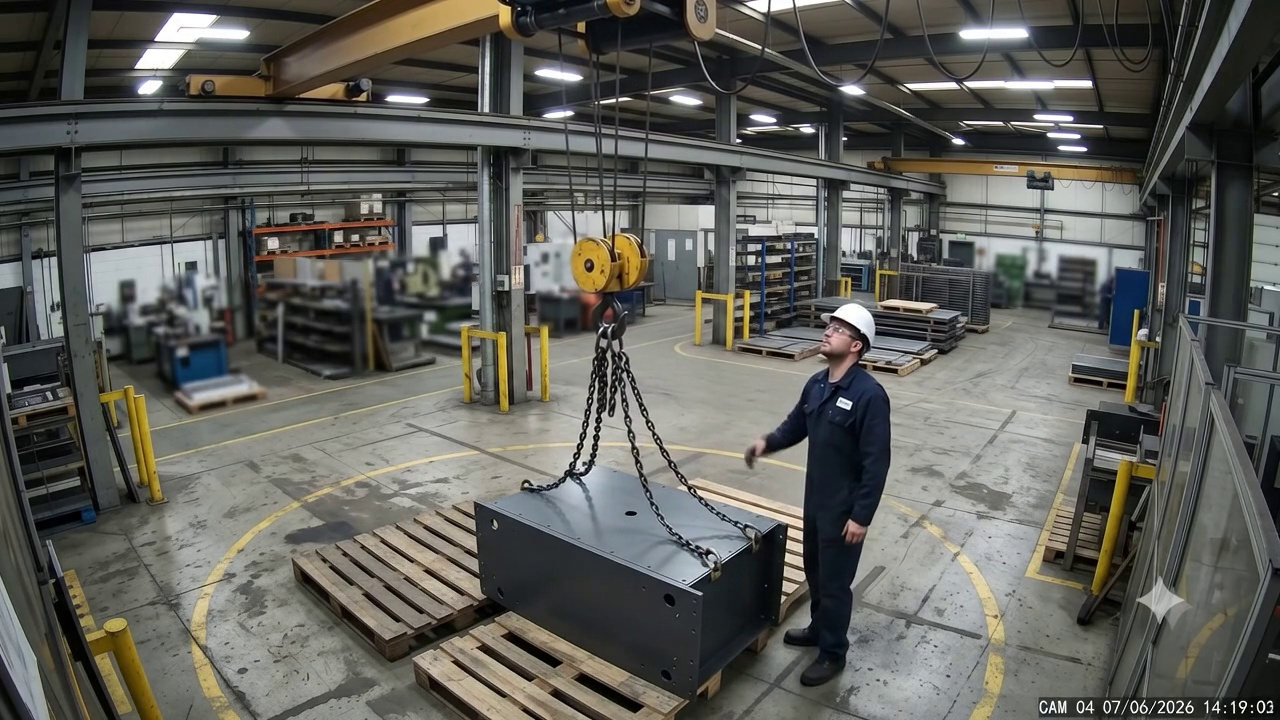person: (743, 301, 891, 689)
